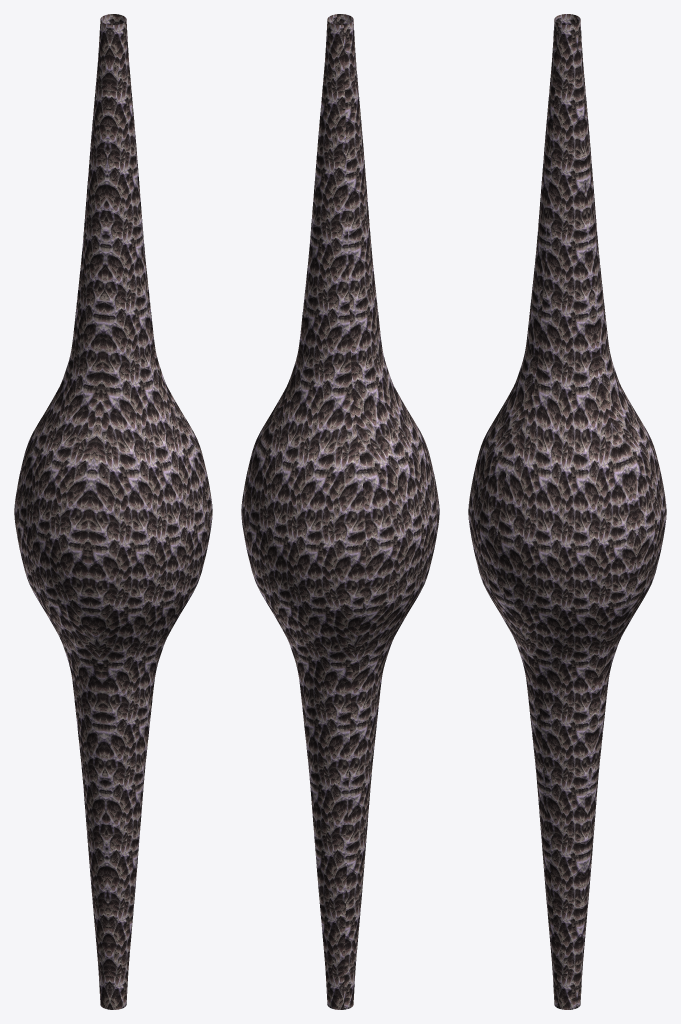
Rendered from Core_values_smaller_uv.glb.
3 renders of one model, left to right at view 1: azimuth 30°, elevation 25°; view 2: azimuth 150°, elevation 25°; view 3: azimuth 270°, elevation 25°, orthographic.
Visible parts, largest first — view 1: Cylinder.006; view 2: Cylinder.006; view 3: Cylinder.006.
Part boxes in pixels (x1,y1,x2,y2): Cylinder.006: [14, 14, 212, 1009]; Cylinder.006: [241, 14, 439, 1009]; Cylinder.006: [468, 14, 666, 1009].
Bounding box in the file's own units: 1.32 × 7.22 × 1.32.
Materials: 1 (1 with a texture image).
